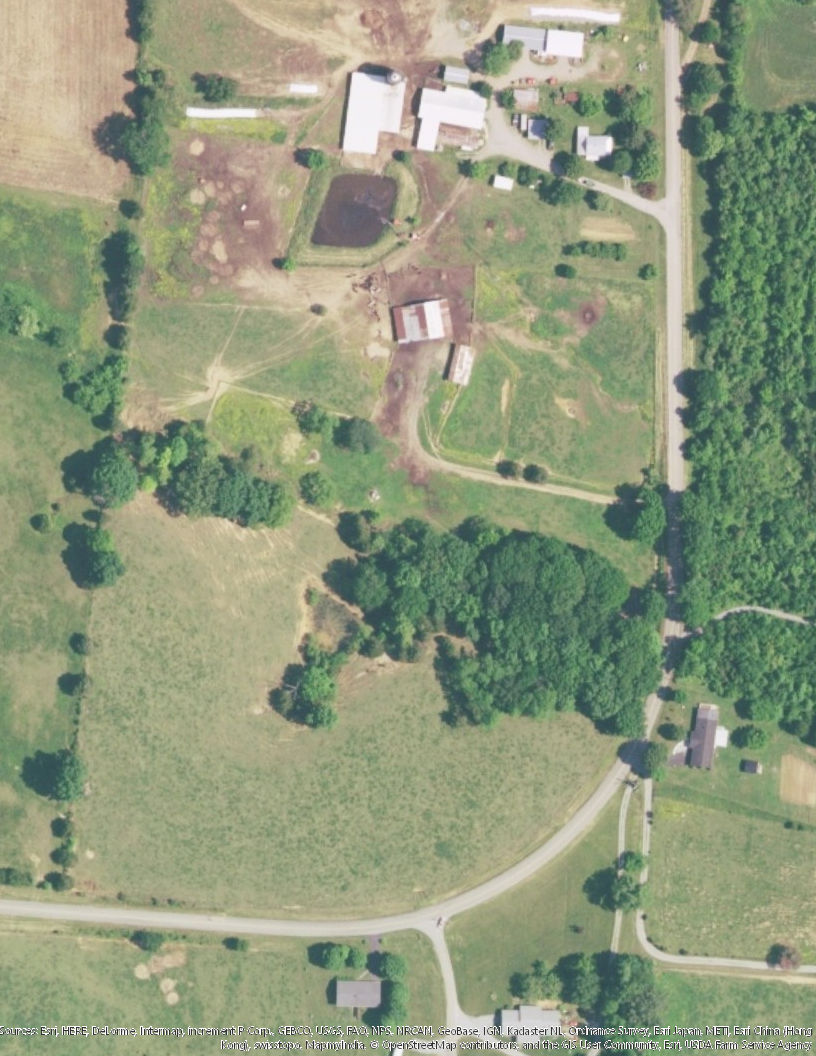cafo: (415, 52, 488, 164), (333, 62, 412, 159), (389, 295, 470, 351)
